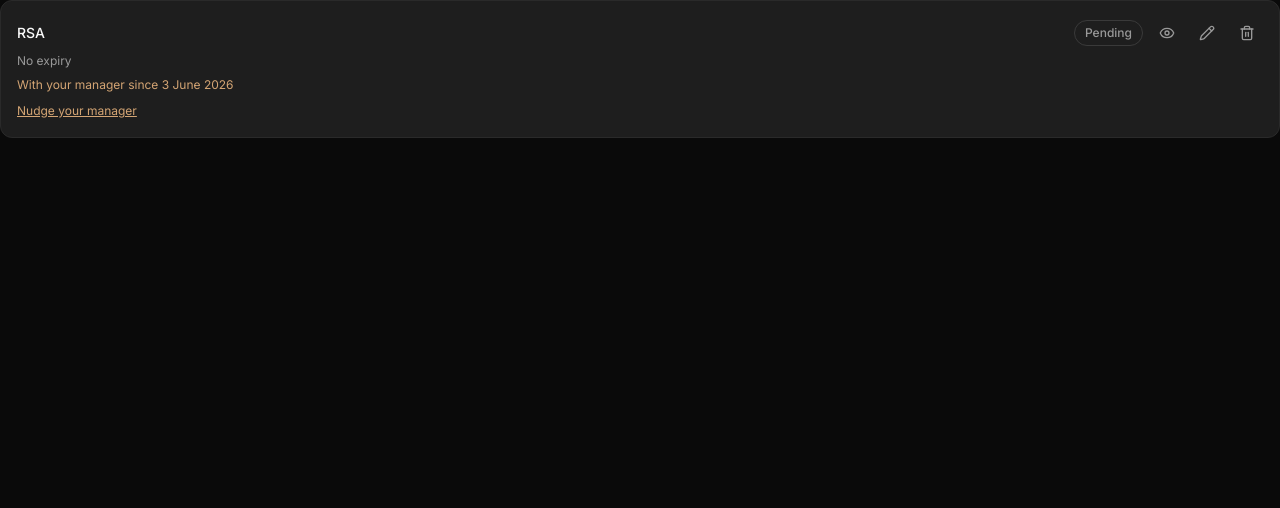
MyDocumentsList › shows an inline error and keeps the edit form open when saving fails
Expected: the text "RSA" is shown, [17, 23, 45, 43]
Click the button named "Edit RSA".
click(1207, 33)  # box [1191, 17, 1223, 49]
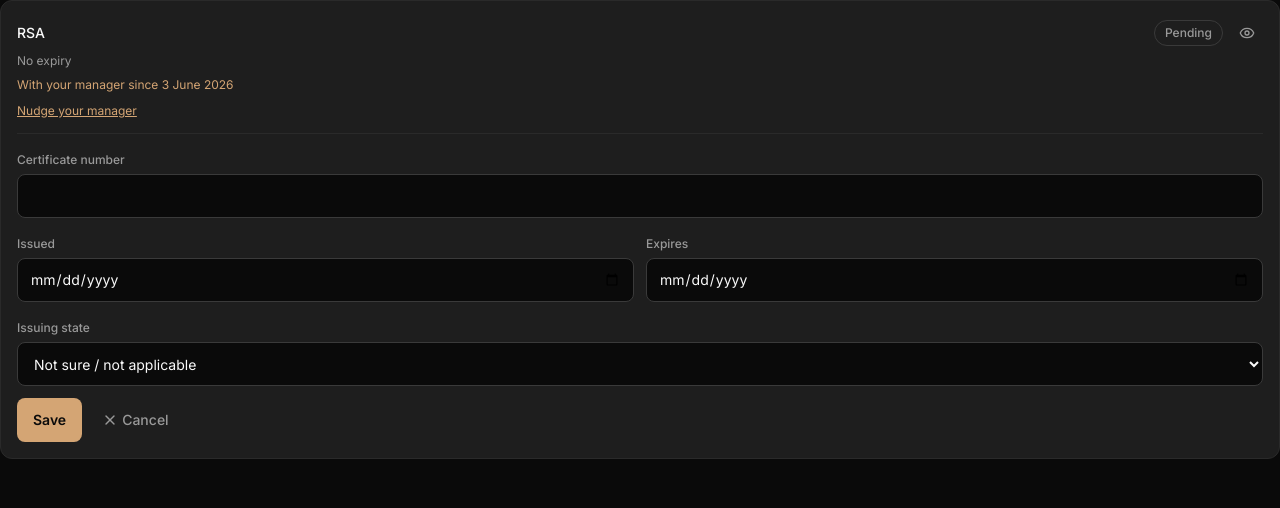
Click the button "Save".
click(50, 420)  # box [17, 398, 82, 442]
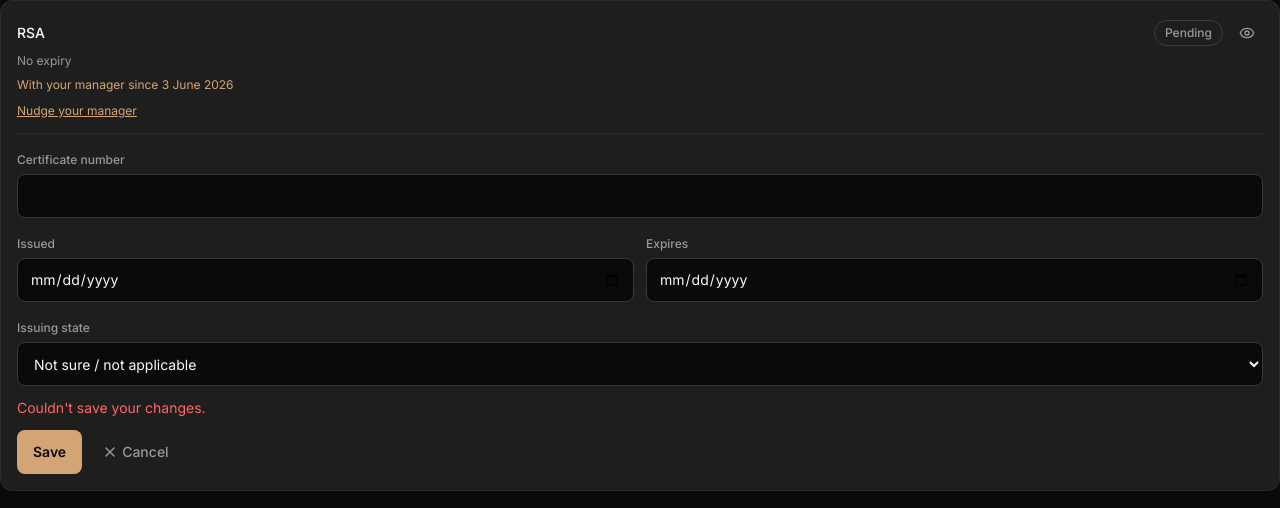
Expected: the button "Save" is shown, [17, 430, 82, 474]
Expected: the text "Couldn't save your changes." is shown, [17, 399, 206, 416]
